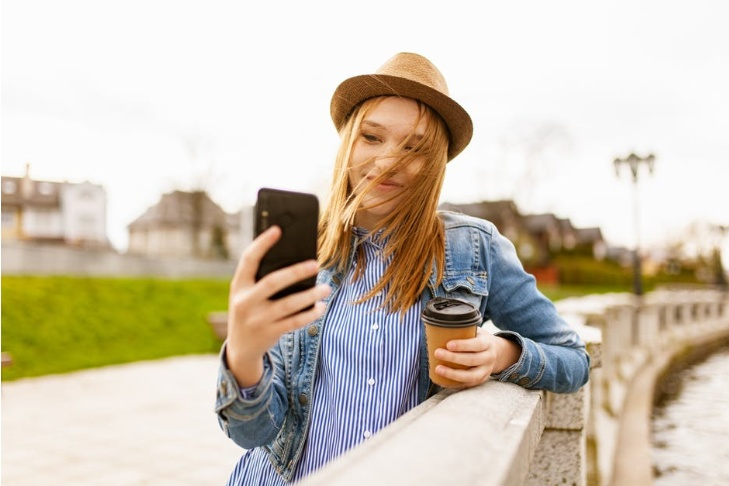face: (347, 96, 436, 217)
